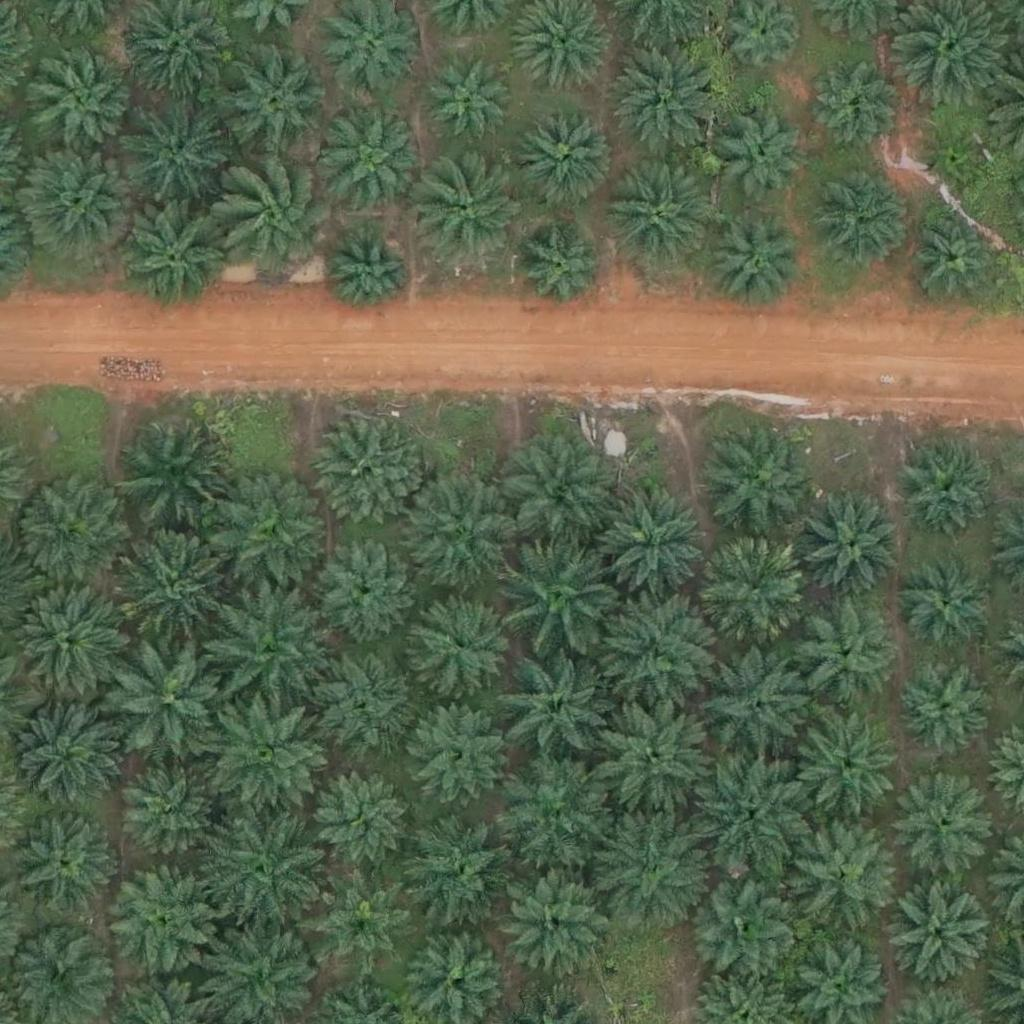Kelapa_Sawit: (215, 157, 340, 283), (701, 422, 814, 536), (599, 486, 712, 600), (599, 695, 712, 809), (498, 755, 611, 869), (215, 696, 328, 810), (112, 640, 225, 754), (784, 813, 897, 926), (693, 750, 806, 863), (697, 536, 810, 649), (595, 600, 708, 713), (592, 814, 705, 927), (505, 537, 618, 650), (403, 811, 516, 924), (312, 418, 425, 531), (210, 479, 323, 592), (101, 860, 214, 973), (13, 475, 126, 588), (14, 579, 127, 692), (7, 811, 120, 924), (119, 95, 232, 208), (115, 202, 228, 315), (786, 602, 898, 716), (700, 646, 812, 760), (409, 475, 521, 589), (601, 158, 713, 272), (505, 875, 617, 988), (499, 650, 611, 763), (503, 438, 615, 551), (303, 646, 415, 759), (213, 594, 325, 707), (209, 814, 321, 927), (122, 415, 234, 528), (115, 526, 227, 639), (8, 704, 120, 817), (612, 48, 724, 161), (416, 154, 528, 267), (215, 46, 327, 159), (24, 150, 136, 263), (890, 881, 990, 982), (896, 440, 996, 541), (799, 498, 899, 599), (797, 718, 897, 819), (694, 875, 794, 976), (411, 591, 511, 692), (308, 764, 408, 865), (313, 532, 413, 633), (812, 171, 912, 272), (706, 215, 806, 316), (517, 106, 617, 207), (29, 52, 129, 153), (897, 775, 997, 875), (894, 659, 994, 759), (897, 554, 997, 654), (410, 702, 510, 802), (313, 871, 413, 971), (117, 760, 217, 860), (324, 114, 424, 214), (518, 229, 606, 317), (910, 212, 997, 301), (430, 57, 517, 146), (811, 62, 898, 150), (718, 108, 805, 196), (325, 229, 412, 317), (926, 130, 989, 193)
